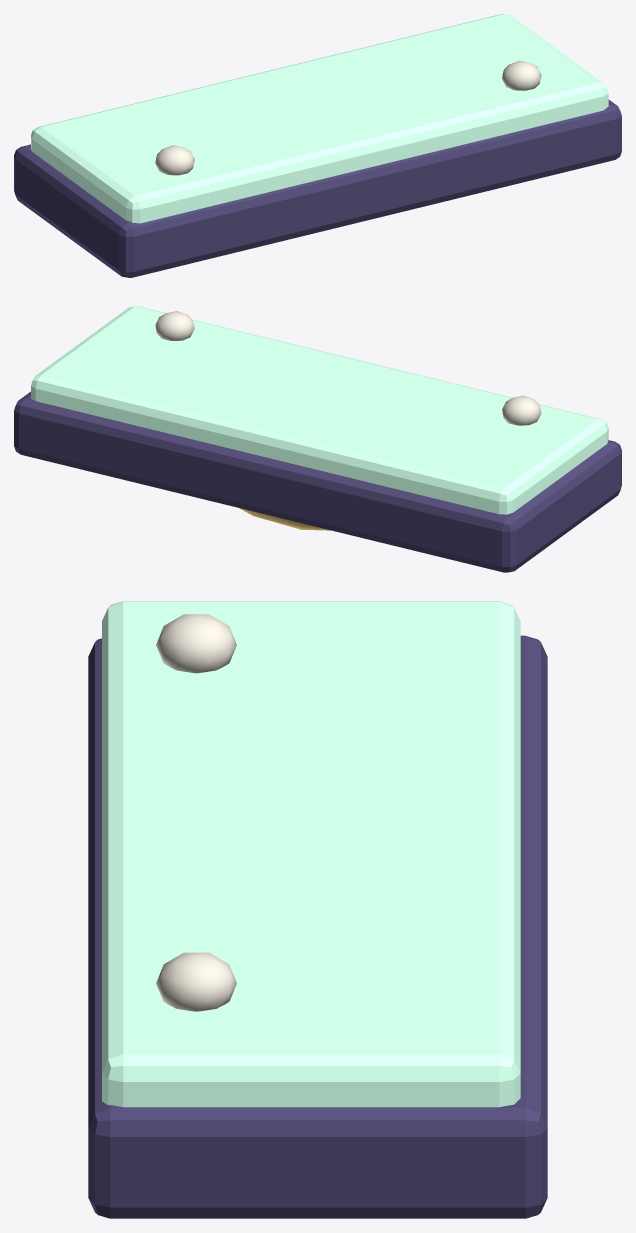
The model's file is pearl_music_bar_3.glb.
3 renders of one model, top to bottom at view 1: azimuth 30°, elevation 25°; view 2: azimuth 150°, elevation 25°; view 3: azimuth 270°, elevation 25°, orthographic. The views are drawn at different scales.
Visible parts, largest first — view 1: pearl_music_bar_3.001; view 2: pearl_music_bar_3.001; view 3: pearl_music_bar_3.001.
Part boxes in pixels (x1,y1,x2,y2): pearl_music_bar_3.001: (14,14,621,277); pearl_music_bar_3.001: (14,306,621,572); pearl_music_bar_3.001: (88,601,547,1218).
Size of the model in its own units: 6.87 by 1.7 by 2.72.
